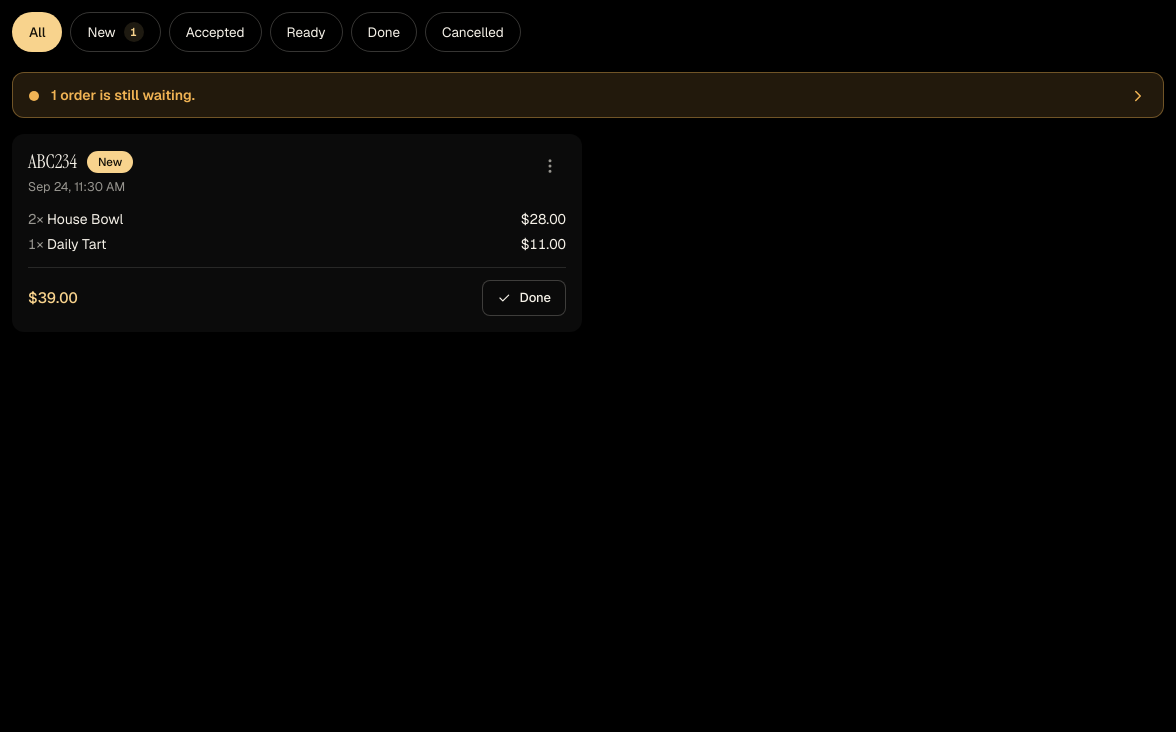
OrdersPage › marks an order done
Click the button "Done" at (524, 298), box [482, 280, 566, 316]
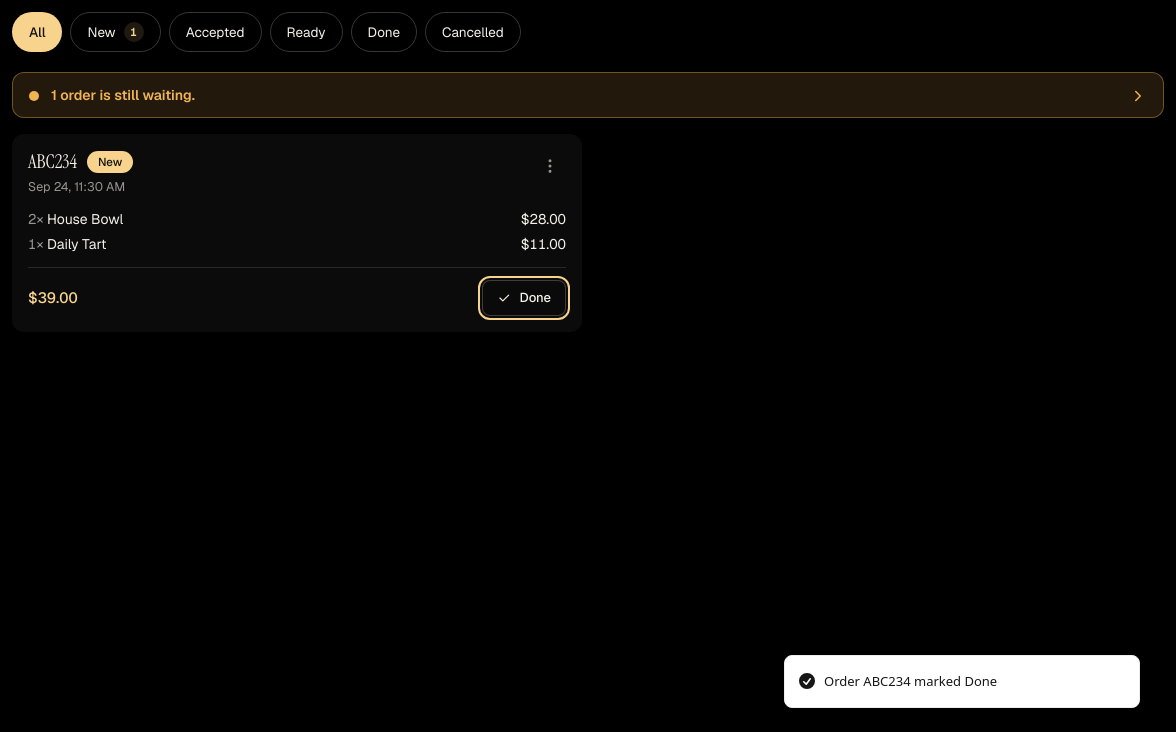
Now the text "Order ABC234 marked Done" is shown, box [824, 672, 997, 691]
